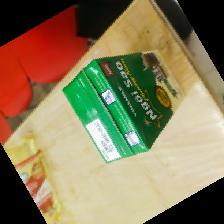NSPN_Hop: (60, 49, 185, 165)
